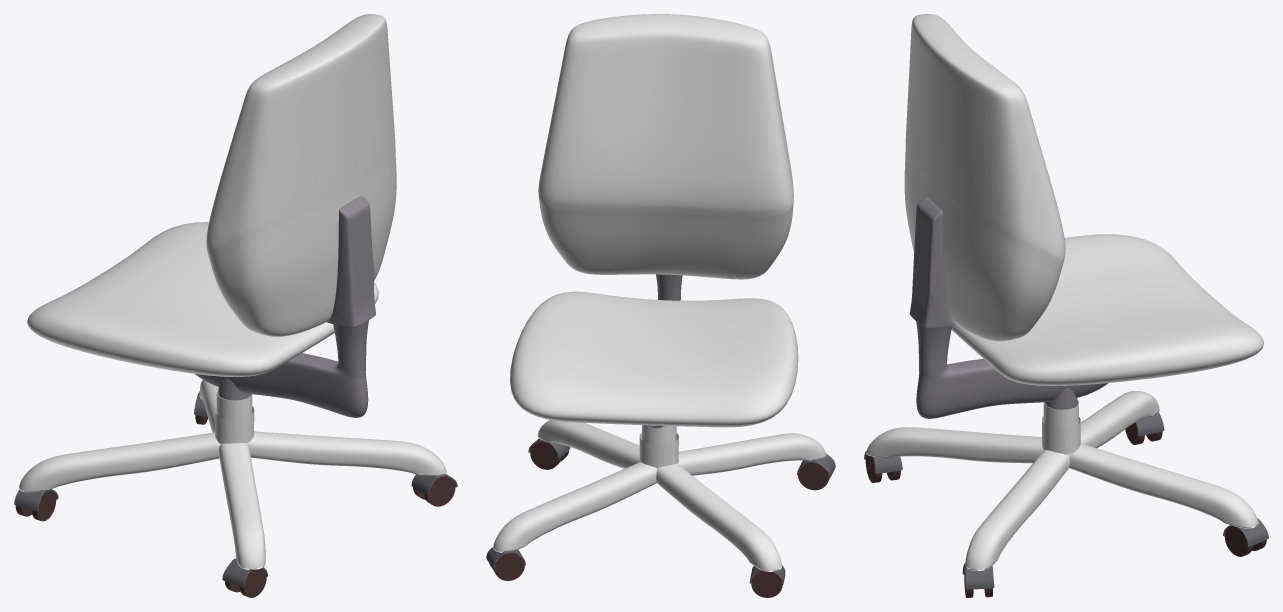
The model's file is chair.fbx.
3 renders of one model, left to right at view 1: azimuth 30°, elevation 25°; view 2: azimuth 150°, elevation 25°; view 3: azimuth 270°, elevation 25°, orthographic. The views are drawn at different scales.
Parts seen in each view (by area): view 1: Chair Back, Chair Seat, ChairLeg1, ChairSupport, ChairLeg2, ChairRaise2, ChairRaise3, Wheel.003, Wheel.002, Wheel; view 2: Chair Back, Chair Seat, ChairLeg2, ChairLeg1, ChairRaise2, ChairSupport, Wheel, Wheel.001, Wheel.003, Wheel.002, ChairRaise3; view 3: Chair Back, Chair Seat, ChairSupport, ChairLeg2, ChairLeg1, ChairRaise2, ChairRaise3, Wheel.001, Cube.004.
Part boxes in pixels (x1=…): Chair Back: x1=206, y1=14, x2=396, y2=336; Chair Seat: x1=27, y1=222, x2=378, y2=377; ChairLeg1: x1=19, y1=431, x2=446, y2=492; ChairSupport: x1=195, y1=196, x2=375, y2=417; ChairLeg2: x1=199, y1=380, x2=265, y2=569; ChairRaise2: x1=214, y1=406, x2=254, y2=443; ChairRaise3: x1=216, y1=390, x2=252, y2=419; Wheel.003: x1=413, y1=476, x2=455, y2=506; Wheel.002: x1=225, y1=568, x2=266, y2=597; Wheel: x1=15, y1=490, x2=56, y2=521; Chair Back: x1=538, y1=14, x2=793, y2=279; Chair Seat: x1=510, y1=291, x2=798, y2=427; ChairLeg2: x1=493, y1=433, x2=826, y2=552; ChairLeg1: x1=537, y1=420, x2=781, y2=571; ChairRaise2: x1=639, y1=433, x2=678, y2=467; ChairSupport: x1=647, y1=274, x2=682, y2=428; Wheel: x1=751, y1=571, x2=782, y2=597; Wheel.001: x1=489, y1=553, x2=524, y2=580; Wheel.003: x1=530, y1=442, x2=568, y2=469; Wheel.002: x1=798, y1=463, x2=829, y2=490; ChairRaise3: x1=642, y1=425, x2=676, y2=443; Chair Back: x1=904, y1=14, x2=1065, y2=341; Chair Seat: x1=951, y1=234, x2=1263, y2=385; ChairSupport: x1=909, y1=197, x2=1108, y2=418; ChairLeg2: x1=866, y1=427, x2=1258, y2=528; ChairLeg1: x1=965, y1=391, x2=1159, y2=570; ChairRaise2: x1=1042, y1=416, x2=1080, y2=454; ChairRaise3: x1=1043, y1=400, x2=1078, y2=428; Wheel.001: x1=1225, y1=526, x2=1266, y2=556; Cube.004: x1=962, y1=563, x2=994, y2=589.
Size of the model in its own units: 79.36 by 107 by 79.34.
